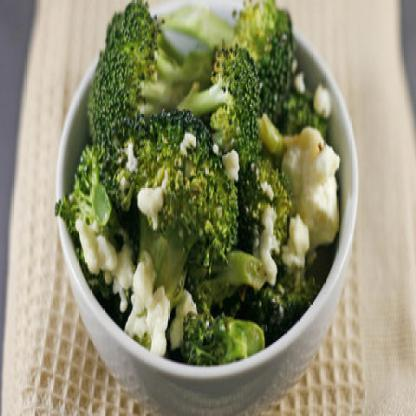broccoli: (55, 0, 342, 365)
